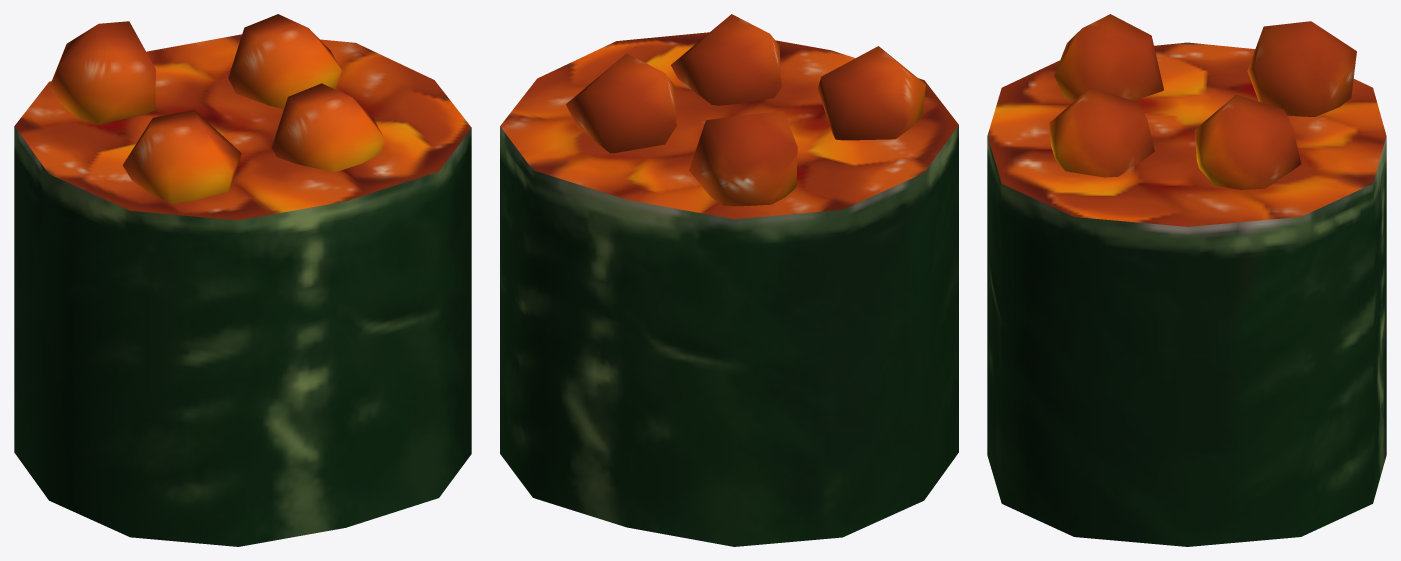
The model's file is SushisRoundEgg.fbx.
The picture shows the model from 3 angles, left to right: view 1: azimuth 30°, elevation 25°; view 2: azimuth 150°, elevation 25°; view 3: azimuth 270°, elevation 25°; orthographic projection. The views are drawn at different scales.
Visible parts, largest first — view 1: SushisRoundEgg; view 2: SushisRoundEgg; view 3: SushisRoundEgg.
Part boxes in pixels (box(x1,y1,x2,y2)): SushisRoundEgg: box(14, 14, 471, 546); SushisRoundEgg: box(500, 14, 958, 546); SushisRoundEgg: box(987, 14, 1386, 546).
Size of the model in its own units: 16.41 by 16.4 by 15.
